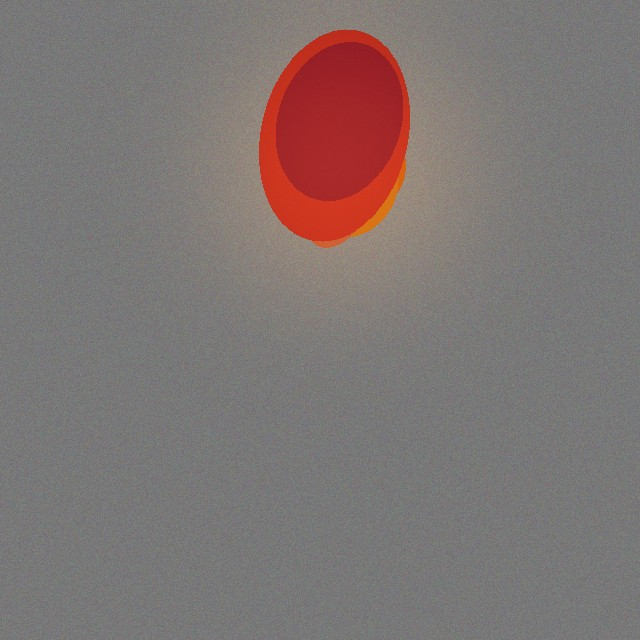fire: (284, 87, 396, 249)
